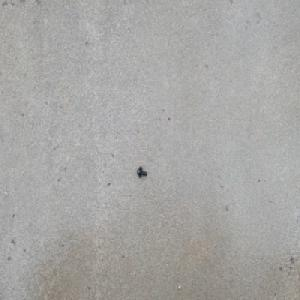BoltWasher: (136, 165, 147, 178)
